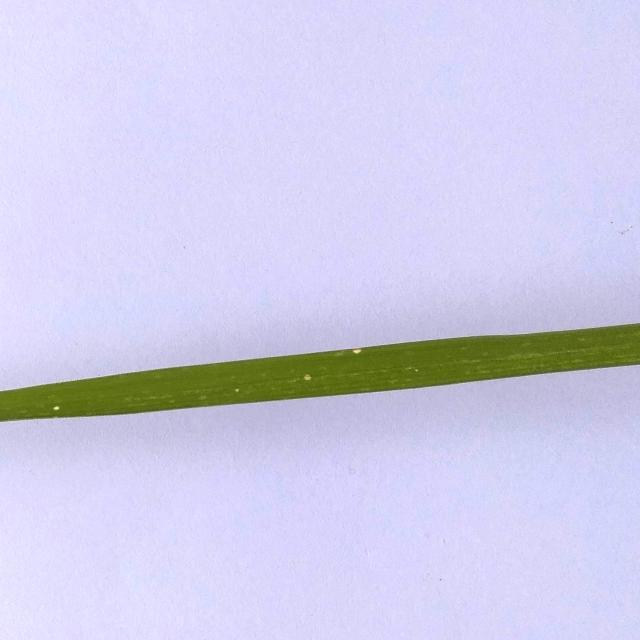Blast: (48, 404, 71, 415), (301, 372, 319, 385), (344, 346, 367, 354)
